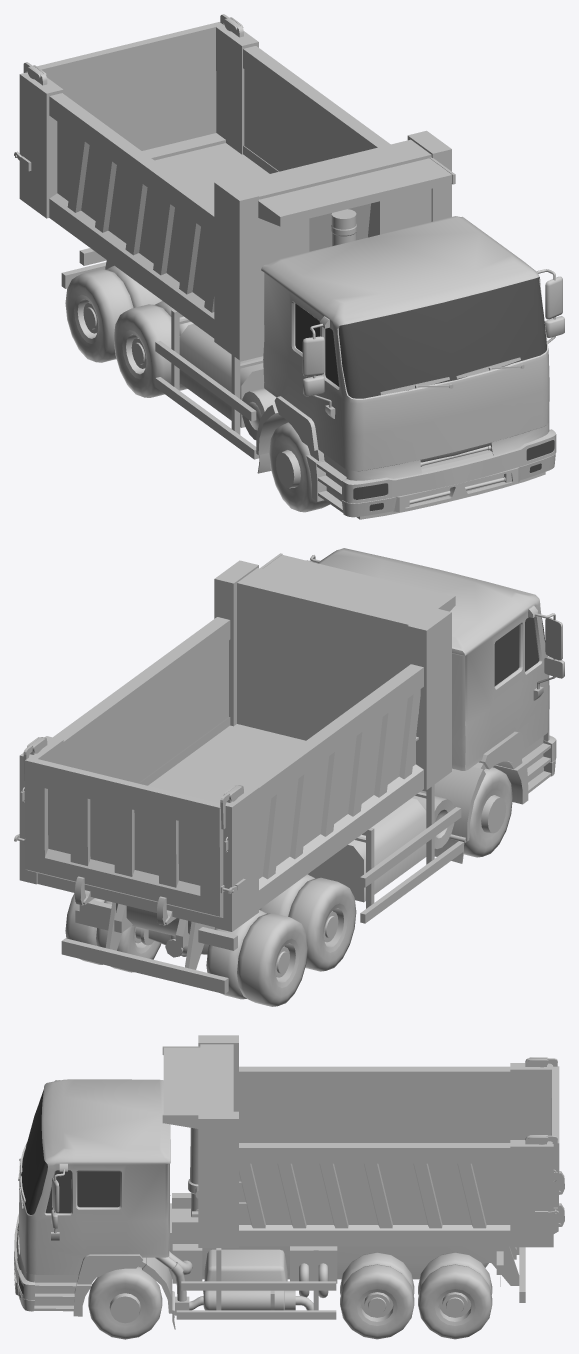
The model's file is TipperDumpTruck_LOD0.FBX.
3 views of the same model, one above another, from view 1: azimuth 30°, elevation 25°; view 2: azimuth 150°, elevation 25°; view 3: azimuth 270°, elevation 25° (orthographic). The views are drawn at different scales.
Visible parts, largest first — view 1: Body_LOD0, Windows_LOD0; view 2: Body_LOD0, Windows_LOD0; view 3: Body_LOD0, Windows_LOD0.
Boxes of the visible parts, x1,y1,x2,y2 form: Body_LOD0: [14, 14, 564, 519]; Windows_LOD0: [295, 277, 554, 510]; Body_LOD0: [14, 548, 564, 1006]; Windows_LOD0: [494, 617, 545, 686]; Body_LOD0: [14, 1035, 564, 1339]; Windows_LOD0: [18, 1090, 120, 1299].
Size of the model in its own units: 5.71 by 5.83 by 12.98.
